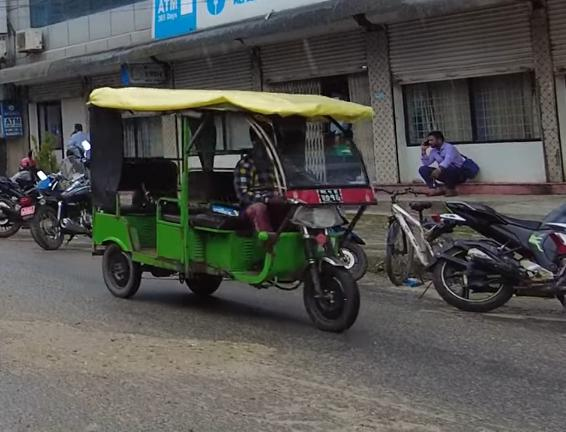bike: (434, 187, 566, 314)
e-rickshaw: (78, 82, 379, 334)
